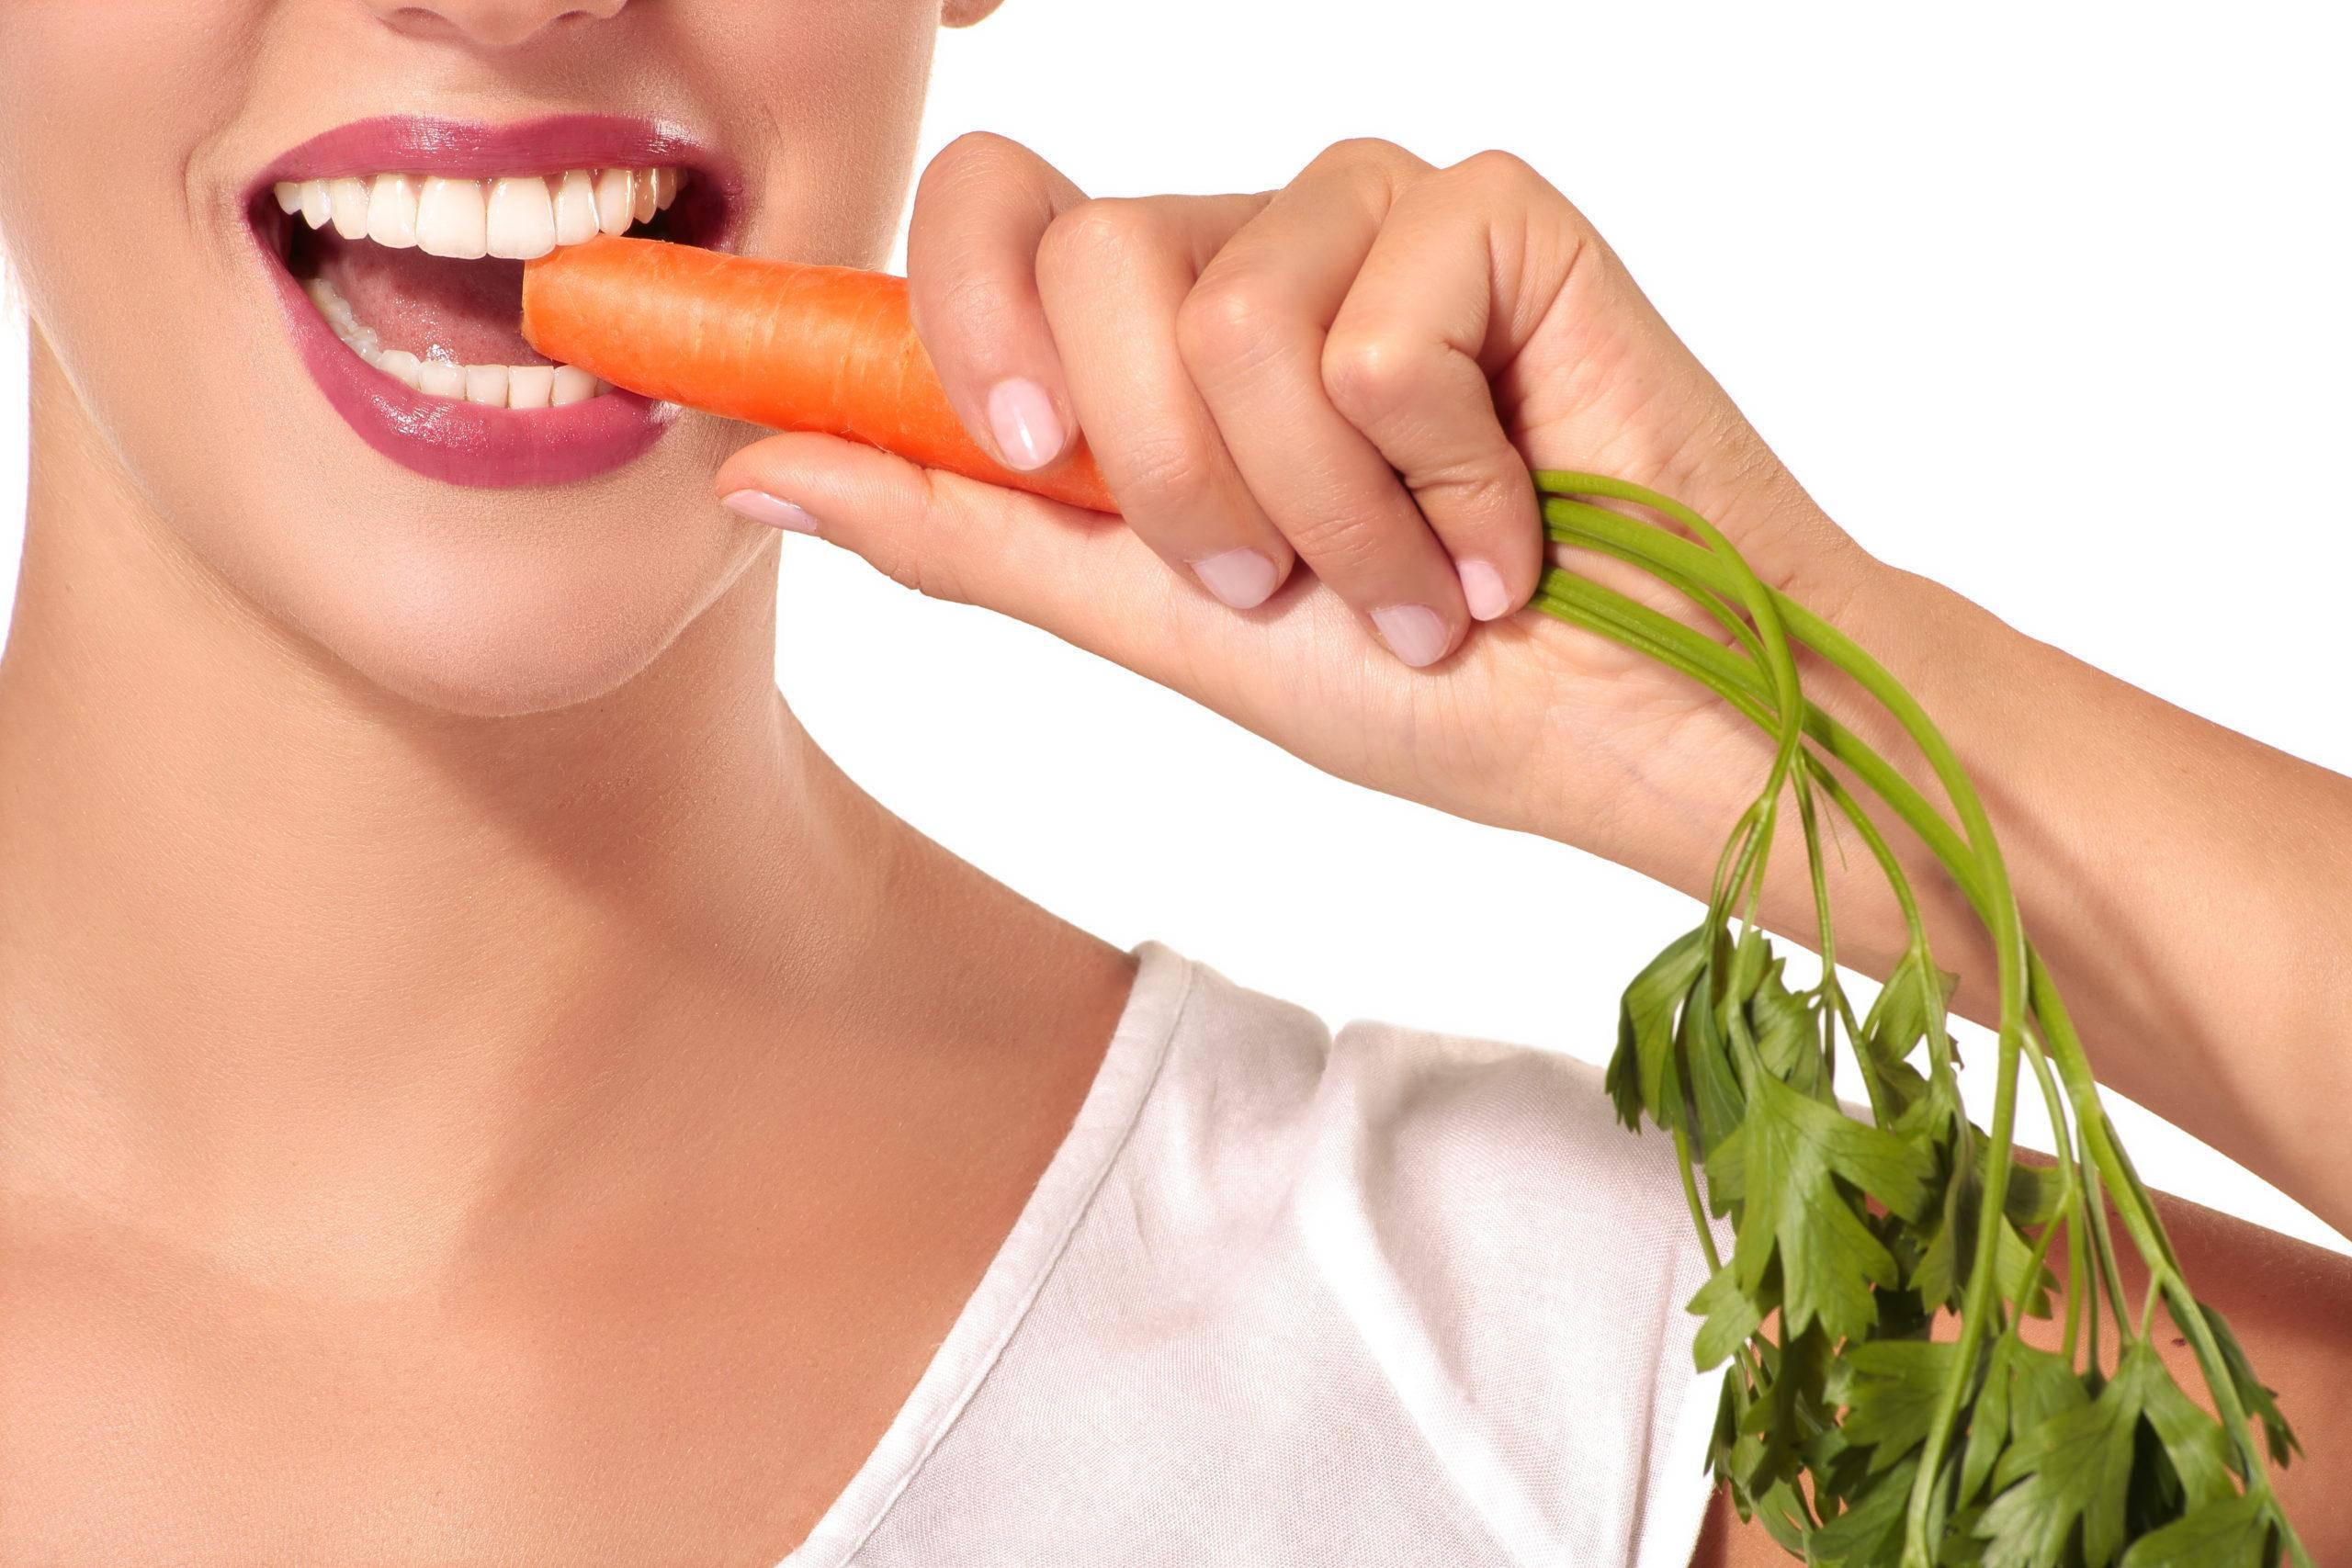carrot: (474, 199, 1006, 504)
